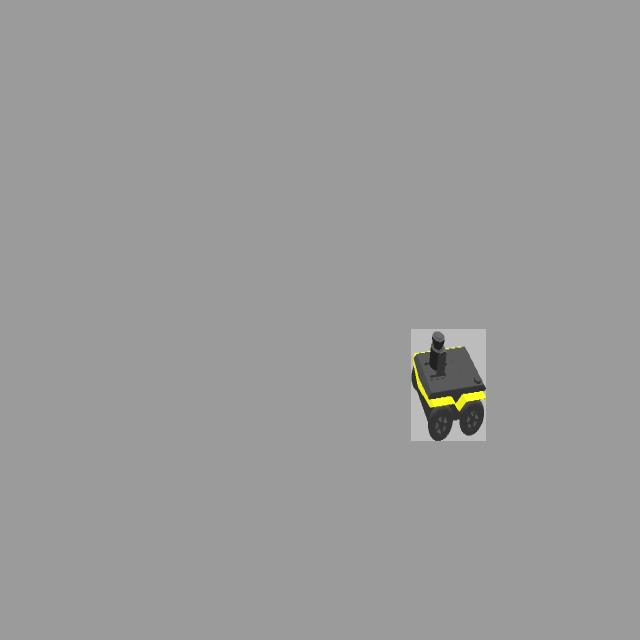jackal: (411, 329, 486, 441)
